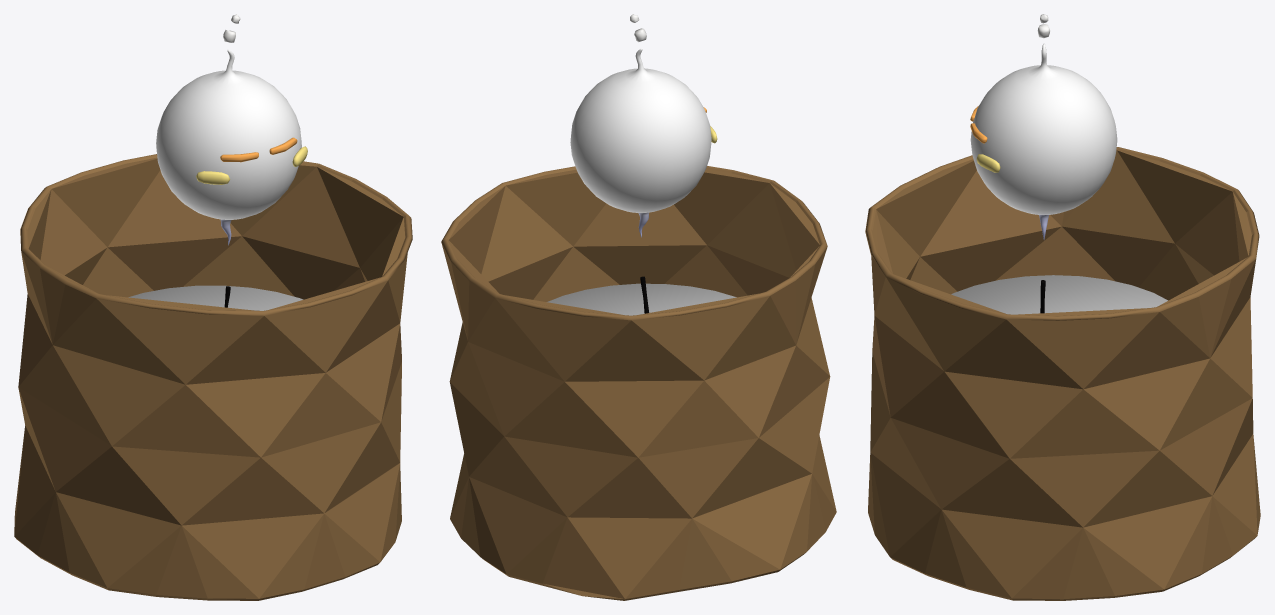
Rendered from square06.obj.
The picture shows the model from 3 angles, left to right: view 1: azimuth 30°, elevation 25°; view 2: azimuth 150°, elevation 25°; view 3: azimuth 270°, elevation 25°; orthographic projection. The views are drawn at different scales.
Visible parts, largest first — view 1: 円柱.006, hinokon, 円柱.008; view 2: 円柱.006, hinokon, 円柱.008; view 3: 円柱.006, hinokon, 円柱.008.
Part boxes in pixels (x1,y1,x2,y2): 円柱.006: [14, 154, 412, 600]; hinokon: [156, 14, 307, 245]; 円柱.008: [128, 285, 303, 310]; 円柱.006: [441, 166, 836, 600]; hinokon: [570, 14, 717, 237]; 円柱.008: [547, 276, 736, 315]; 円柱.006: [865, 147, 1260, 600]; hinokon: [970, 14, 1117, 239]; 円柱.008: [951, 275, 1167, 314].
Bounding box in the file's own units: 1.37 × 1.94 × 1.35.
4 materials, 1 textured.
